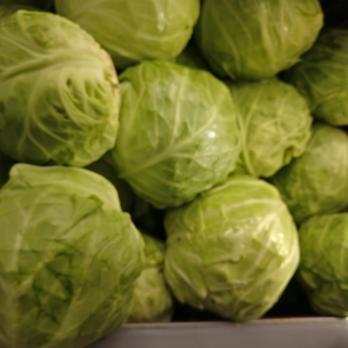Cabbage: (1, 1, 348, 348)
